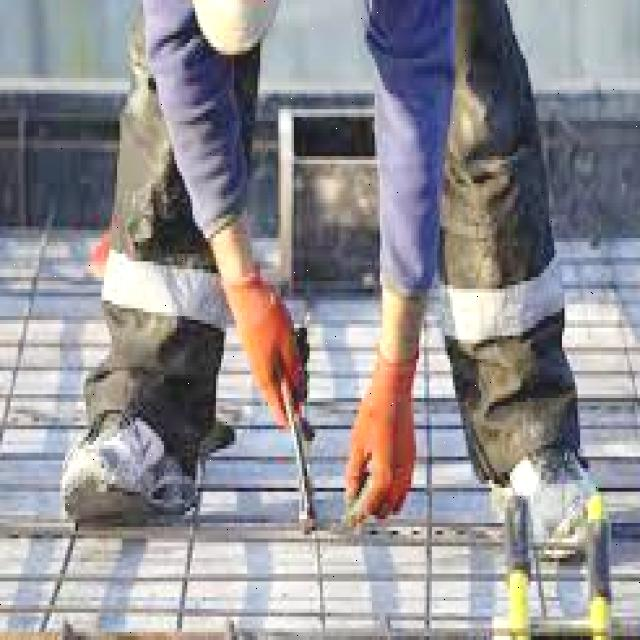Gloves: (346, 336, 418, 526), (226, 273, 305, 425)
Safety Boots: (61, 413, 196, 521), (493, 449, 596, 540)
